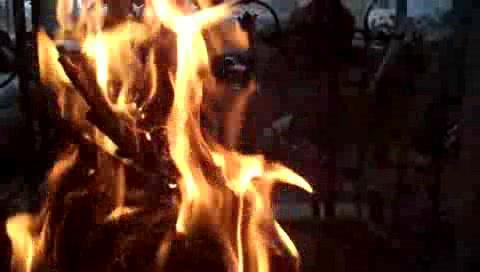fire: (33, 6, 269, 261)
